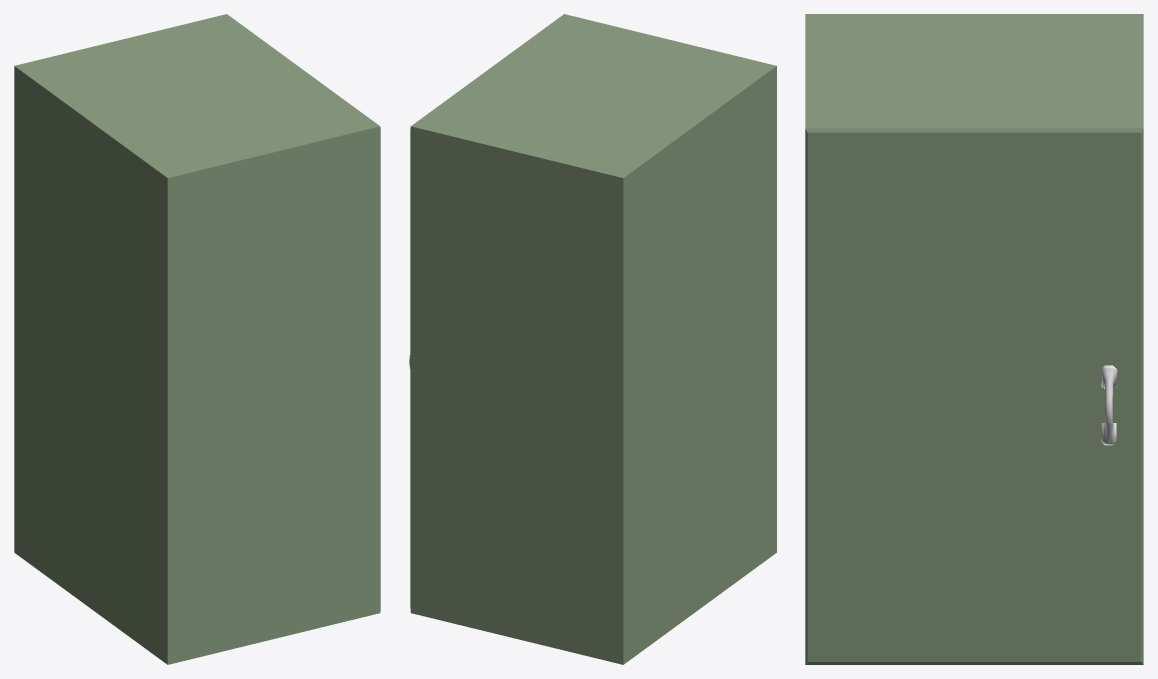
Rendered from Cabinet_Wall2.fbx.
The picture shows the model from 3 angles, left to right: view 1: azimuth 30°, elevation 25°; view 2: azimuth 150°, elevation 25°; view 3: azimuth 270°, elevation 25°; orthographic projection. The views are drawn at different scales.
Parts seen in each view (by area): view 1: Cabinet_Wall.001, Door; view 2: Cabinet_Wall.001, Door; view 3: Door, Cabinet_Wall.001.
Part boxes in pixels (left/top/right/bottom): Cabinet_Wall.001: left=14, top=17, right=366, bottom=664; Door: left=214, top=14, right=380, bottom=616; Cabinet_Wall.001: left=424, top=17, right=776, bottom=664; Door: left=409, top=14, right=576, bottom=616; Door: left=805, top=121, right=1143, bottom=664; Cabinet_Wall.001: left=805, top=14, right=1143, bottom=121.
Bounding box in the file's own units: 34.5 × 70 × 40.
